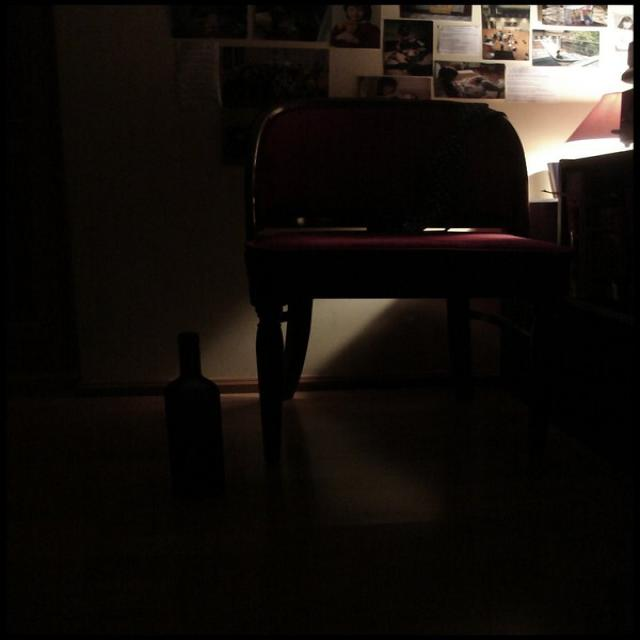Bottle: (146, 314, 258, 519)
Table: (546, 56, 640, 495)
chair: (239, 35, 620, 488)
